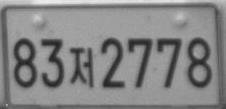2: (100, 36, 125, 88)
3: (40, 37, 64, 88)
7: (156, 36, 182, 89), (127, 37, 153, 88)
8: (186, 35, 213, 88), (12, 36, 37, 87)
저: (68, 46, 94, 88)
